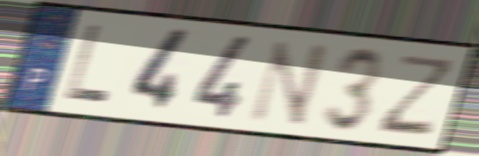3: (324, 45, 389, 135)
4: (126, 24, 189, 118), (189, 33, 252, 122)
L: (61, 22, 113, 107)
N: (245, 38, 333, 129)
Z: (373, 52, 461, 138)
